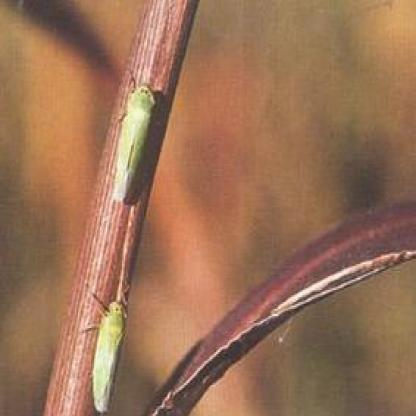Green-Leafhopper: (112, 73, 160, 215), (88, 284, 132, 416)
